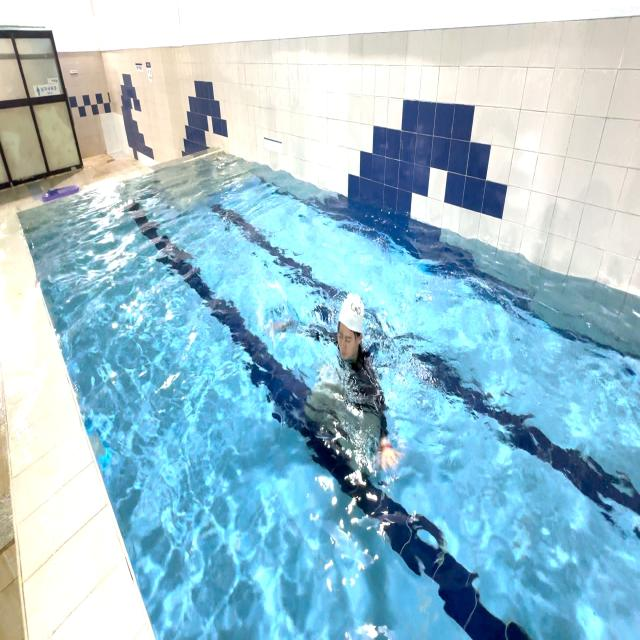Drowning: (264, 287, 404, 475)
